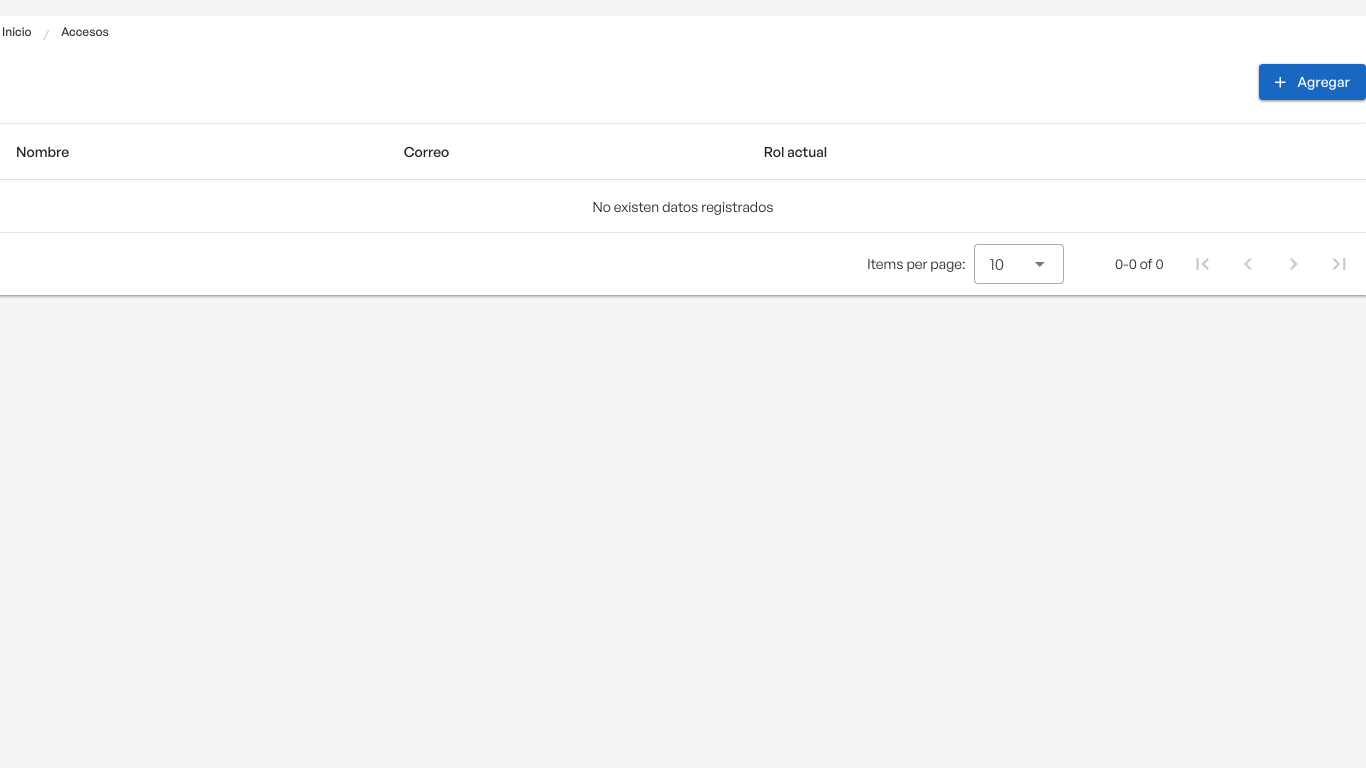
Test: AccesosView — loading / error / populated states › opens CreateAccesoDialog when "Agregar" is clicked
Click the button "Agregar" at (1313, 82), box top-left (1259, 64), bottom-right (1365, 100)
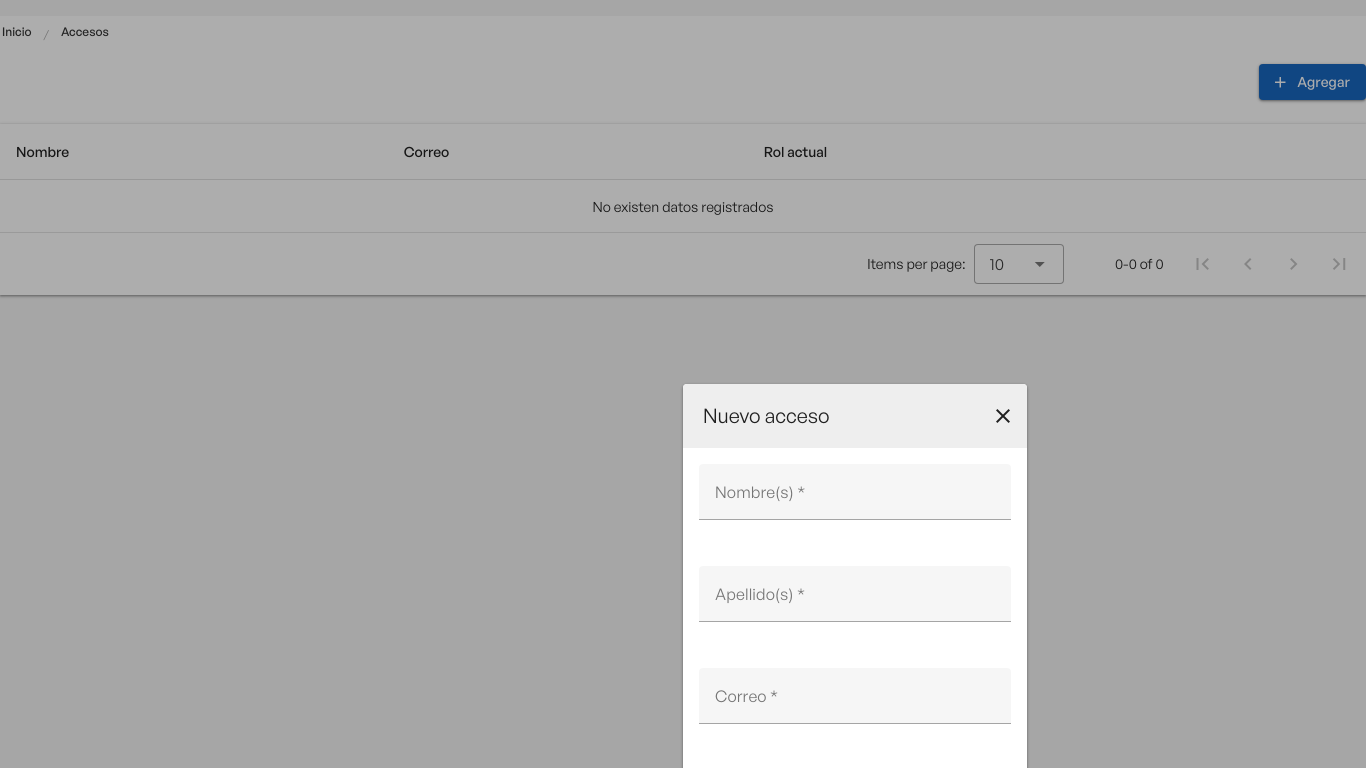
Result: the text "Nuevo acceso" is shown at top-left (703, 402), bottom-right (841, 430)
